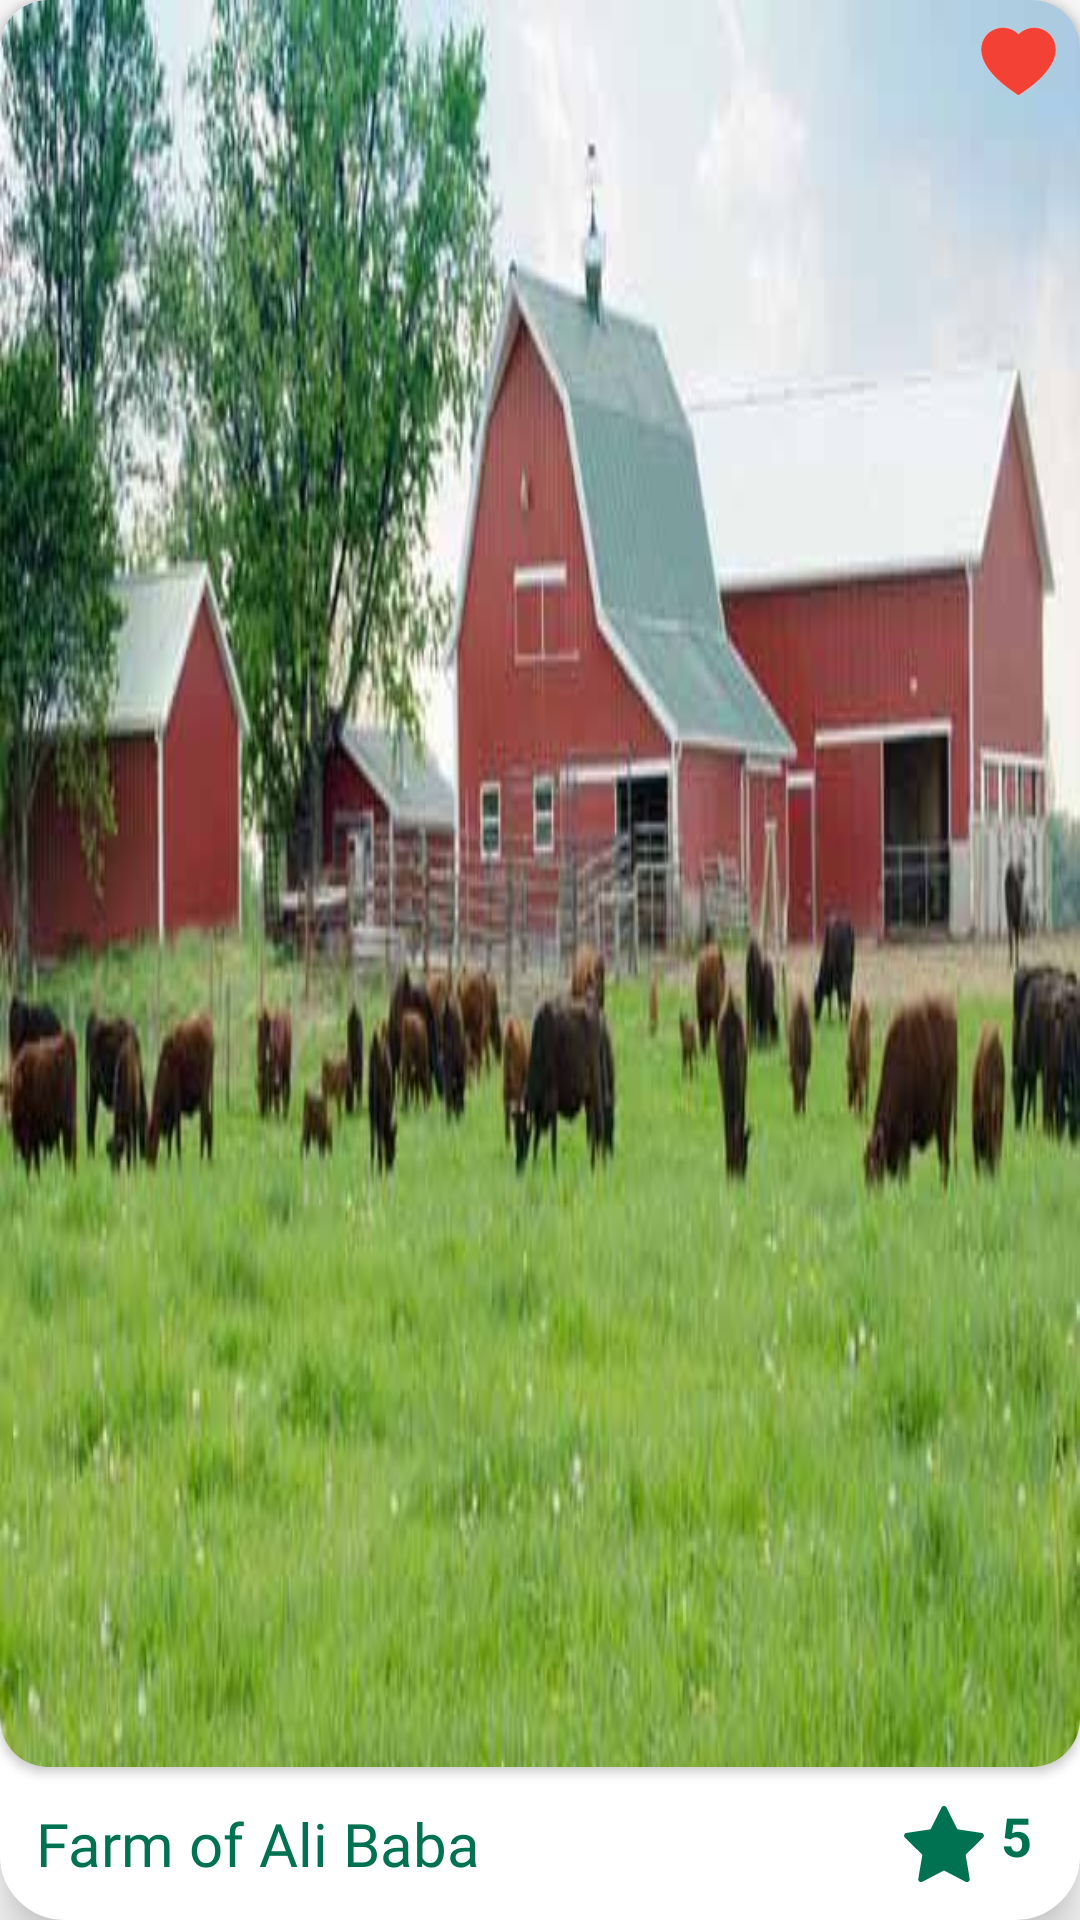

Named icons in this screenshot (1080x1920) and their centers, [x,y]:
favorite: [1018,61]
